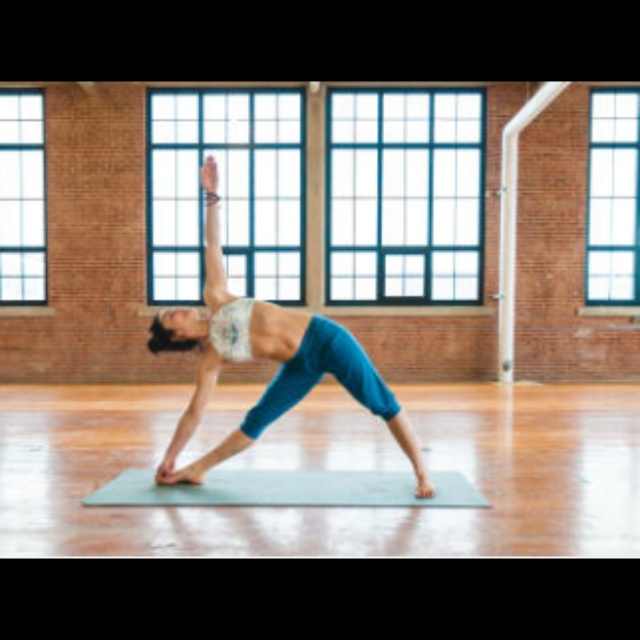Triangle_Pose: (131, 145, 448, 506)
